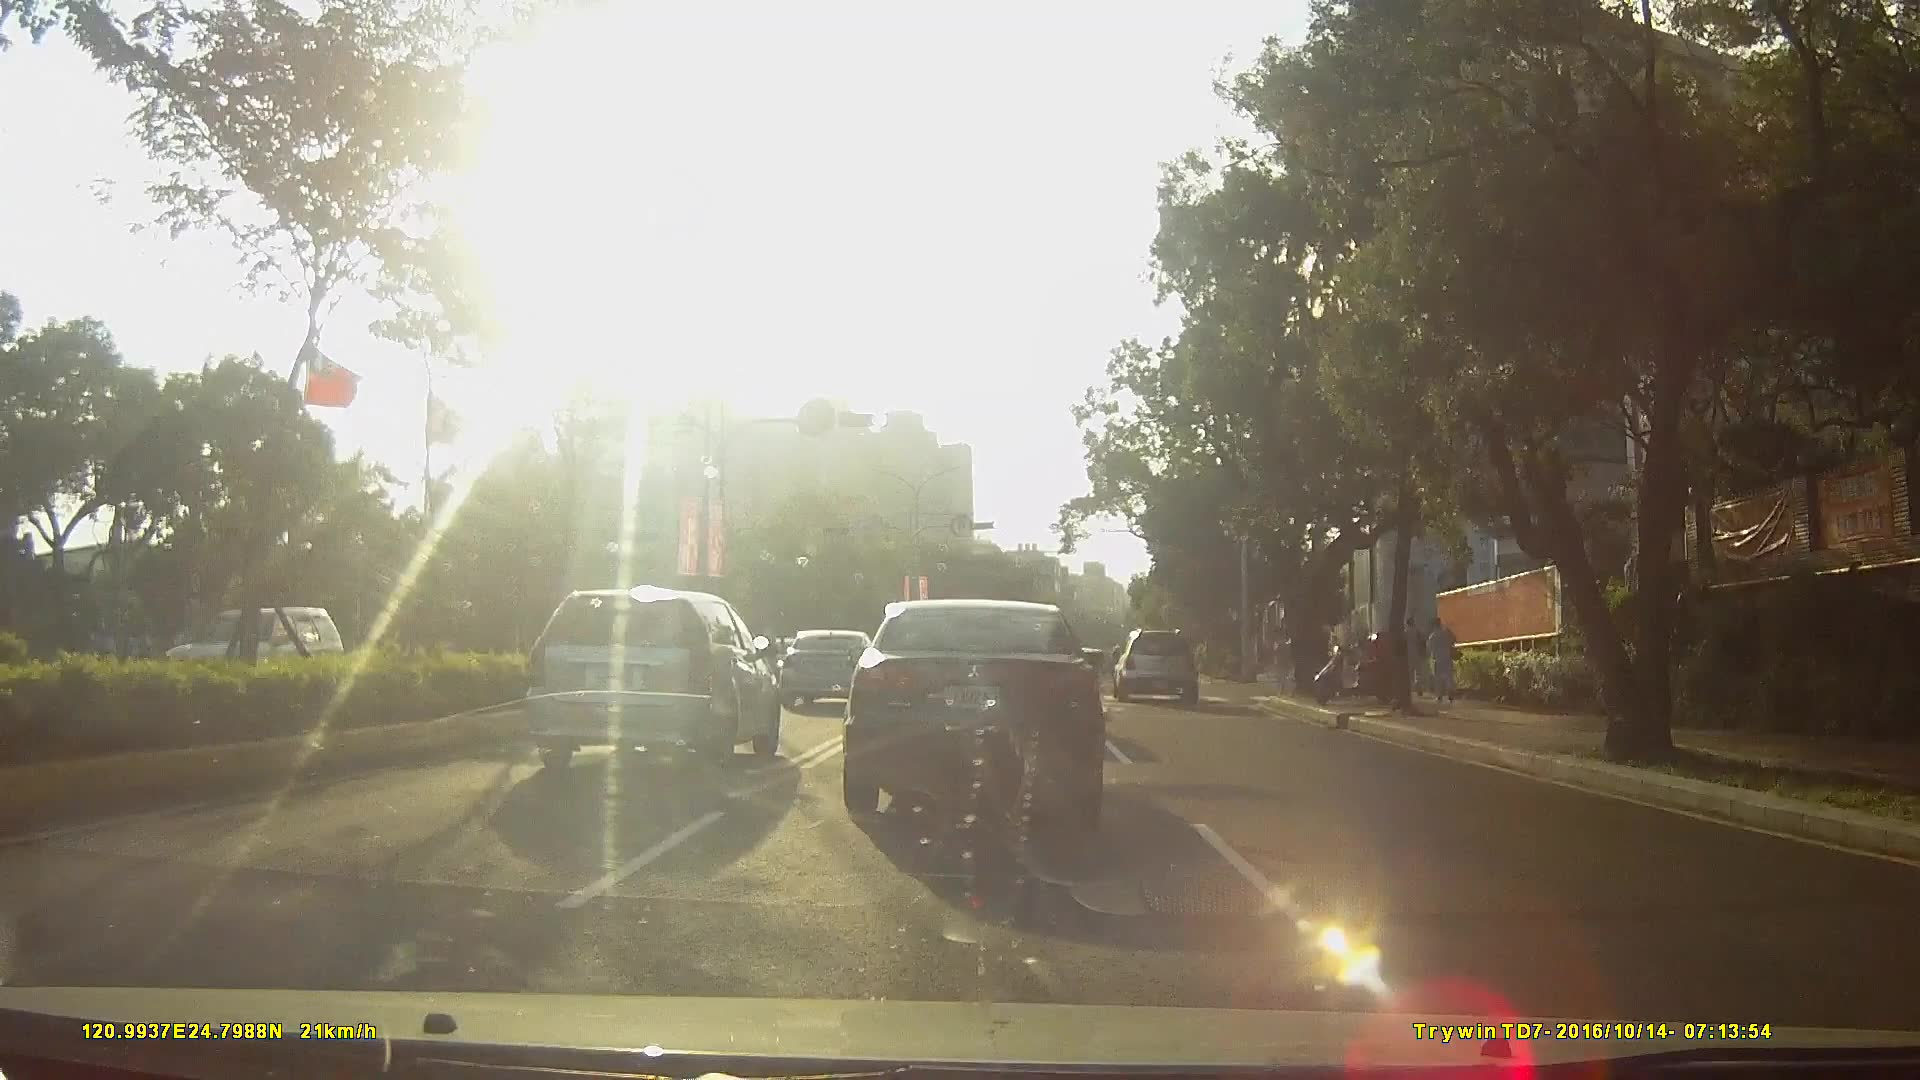pedestrian: (1426, 617, 1464, 708), (1406, 615, 1428, 699)
vehicle: (146, 603, 339, 700), (774, 628, 876, 717), (1110, 625, 1208, 706)
